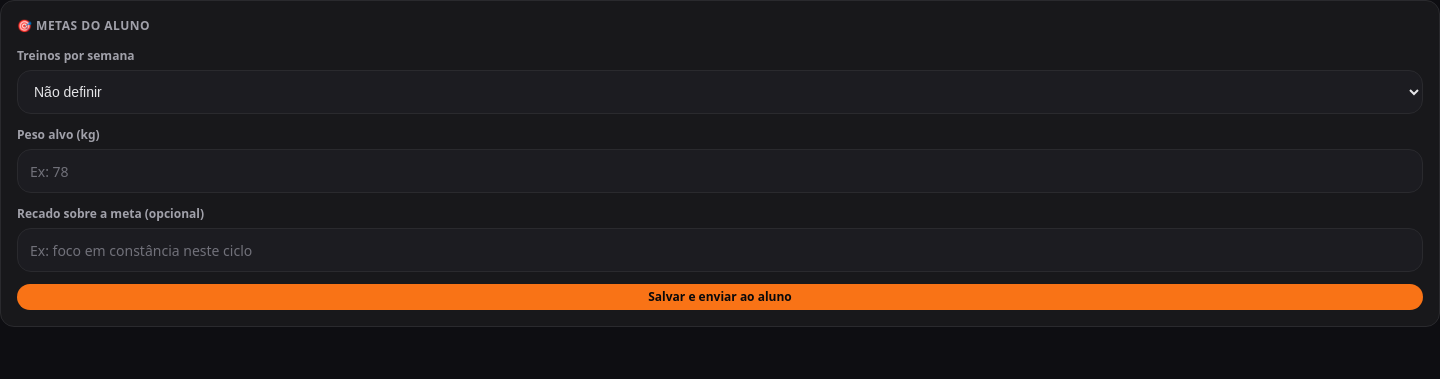
ClientGoals › erro do servidor aparece como mensagem
The width and height of the screenshot is (1440, 379).
Select "3" in the dropdown labelled "Treinos por semana" at (720, 92), box [17,70,1423,114]
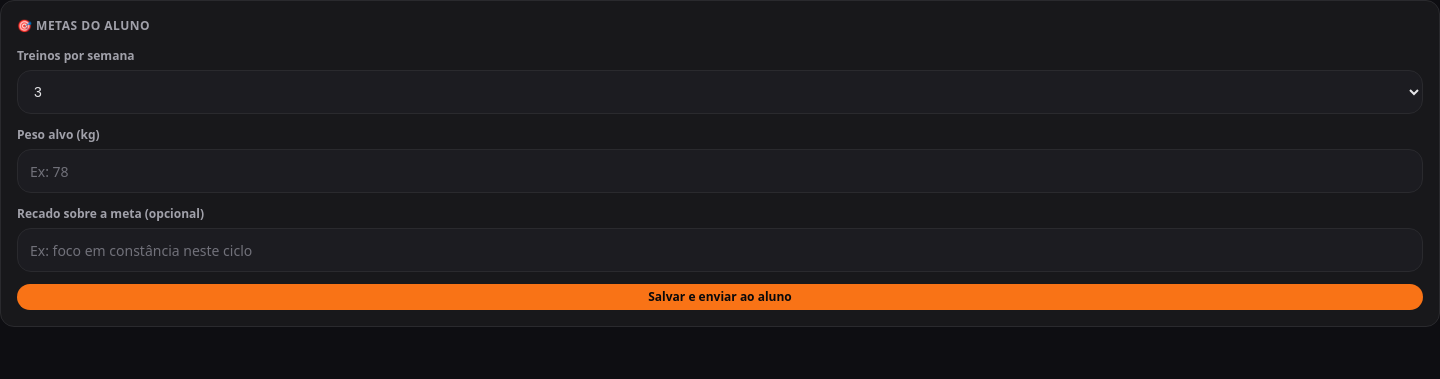
Click the button "Salvar e enviar ao aluno".
click(720, 297)  # box [17,284,1423,310]
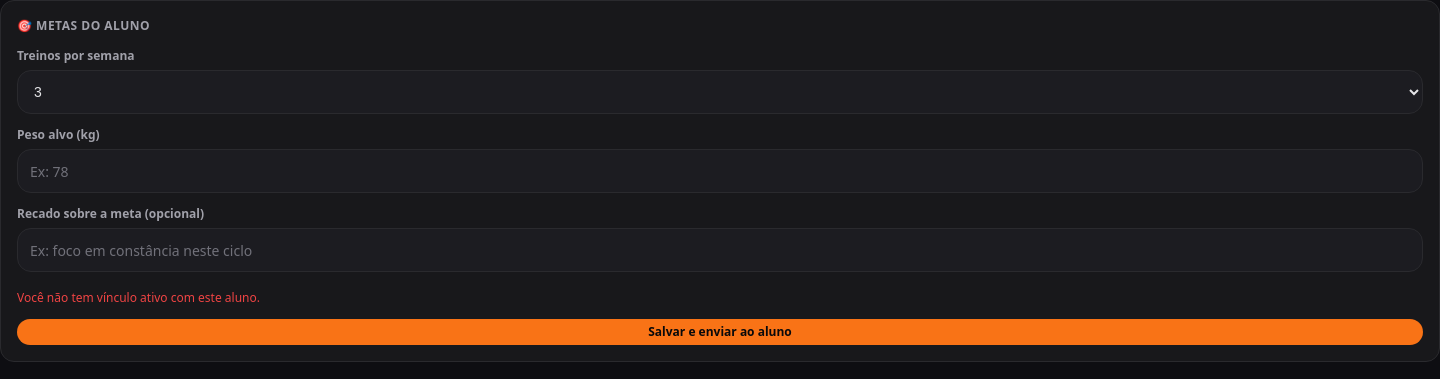
Expected: the message "Você não tem vínculo ativo com este aluno." is shown, [17,289,260,306]
